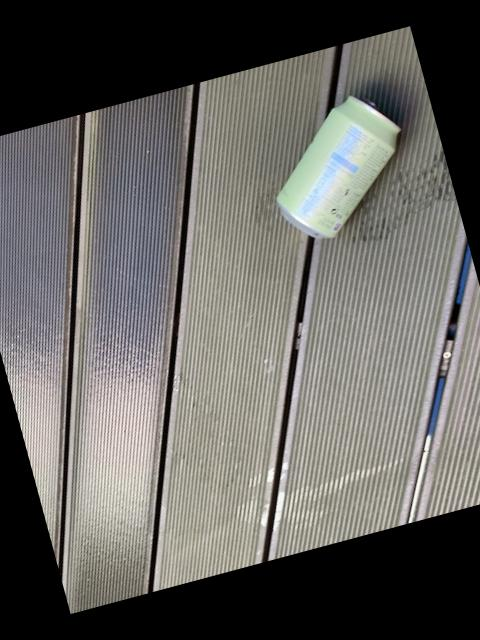metal: (276, 98, 399, 239)
